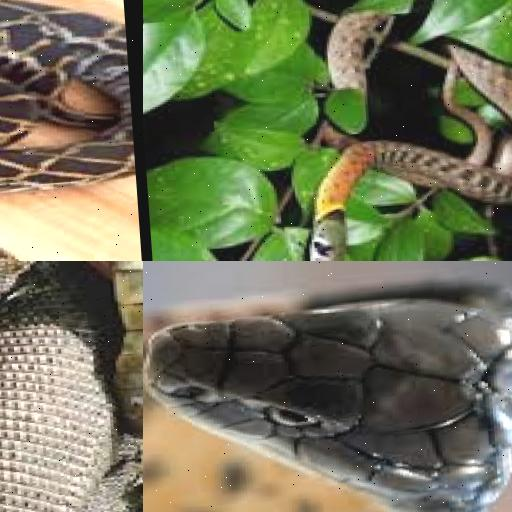snake: (143, 261, 512, 512), (281, 0, 512, 261), (0, 0, 143, 261), (0, 261, 143, 449)
